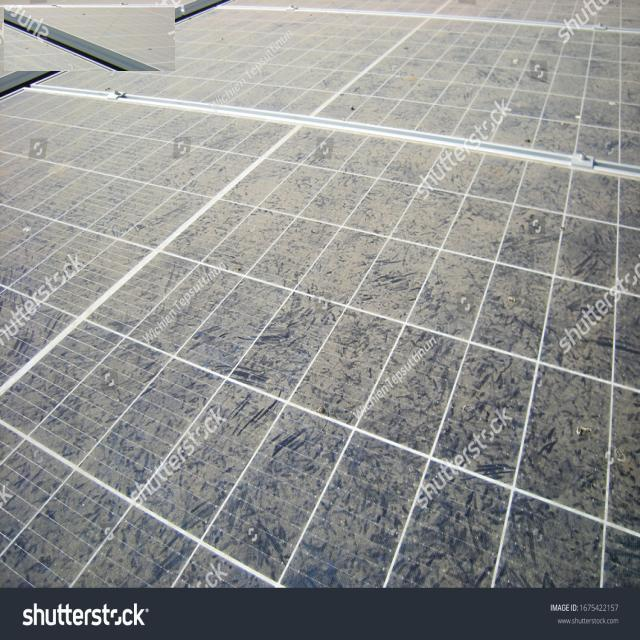Dusty: (4, 5, 637, 585), (4, 6, 175, 71)
